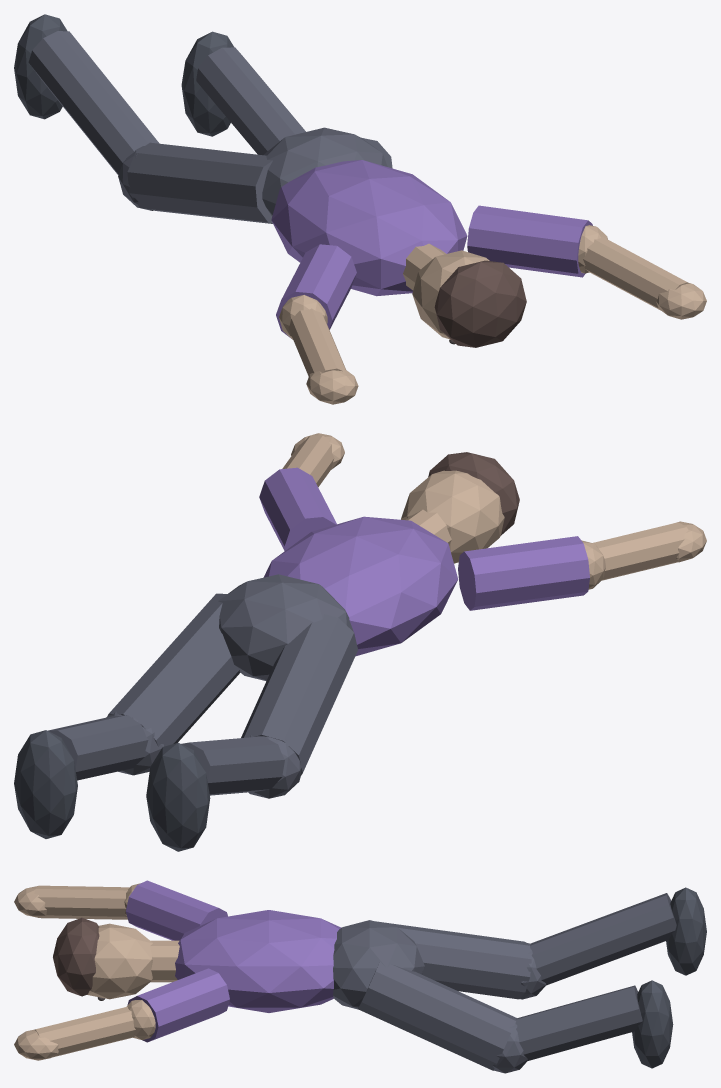
3 renders of one model, top to bottom at view 1: azimuth 30°, elevation 25°; view 2: azimuth 150°, elevation 25°; view 3: azimuth 270°, elevation 25°, orthographic. The views are drawn at different scales.
Visible parts, largest first — view 1: world; view 2: world; view 3: world.
Boxes of the visible parts, x1,y1,x2,y2 form: world: [14, 14, 706, 404]; world: [14, 433, 706, 851]; world: [14, 880, 706, 1073].
Bounding box in the file's own units: 1.17 × 0.4125 × 2.13.
